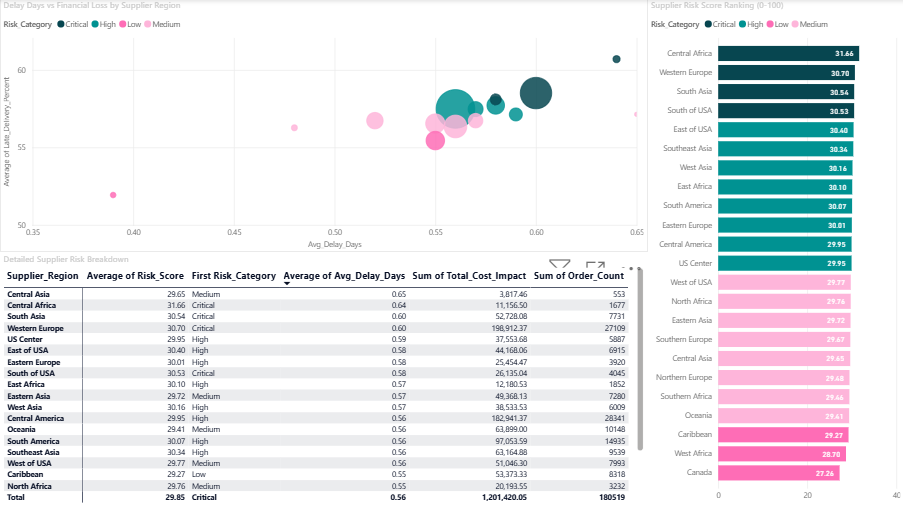

What the dashboard file says about the page in this screenshot:
{"tool":"powerbi","page":{"name":"Supplier Risk Analysis","canvas":[1280,720],"ordinal":1},"visuals":[{"type":"scatterChart","title":"Delay Days vs Financial Loss by Supplier Region","fields":{"X":["Supplier_Risk_Analysis.Avg_Delay_Days"],"Y":["Avg(Supplier_Risk_Analysis.Late_Delivery_Percent)"],"Size":["Sum(Supplier_Risk_Analysis.Order_Count)"],"Series":["Supplier_Risk_Analysis.Risk_Category"]},"box":[0,0,917.3,359.3],"z":0},{"type":"actionButton","box":[0,0,100,40],"z":1000},{"type":"barChart","title":"Supplier Risk Score Ranking (0-100)","fields":{"Category":["Supplier_Risk_Analysis.Supplier_Region"],"Series":["Supplier_Risk_Analysis.Risk_Category"],"Y":["Sum(Supplier_Risk_Analysis.Risk_Score)"]},"box":[917.3,0,363.5,720.7],"z":2000},{"type":"pivotTable","title":"Detailed Supplier Risk Breakdown","fields":{"Rows":["Supplier_Risk_Analysis.Supplier_Region"],"Values":["Avg(Supplier_Risk_Analysis.Risk_Score)","Min(Supplier_Risk_Analysis.Risk_Category)","Avg(Supplier_Risk_Analysis.Avg_Delay_Days)","Sum(Supplier_Risk_Analysis.Total_Cost_Impact)","Sum(Supplier_Risk_Analysis.Order_Count)"]},"box":[0,359.6,917,359.6],"z":3000}]}

Visuals, with their boxes in screenshot pixels (x1, y1, x2, y2), scaled from the page's 1280x720 canvas onto the 903x507 screenshot:
"Delay Days vs Financial Loss by Supplier Region" scatterChart: box(0, 0, 647, 253)
actionButton: box(0, 0, 71, 28)
"Supplier Risk Score Ranking (0-100)" barChart: box(647, 0, 902, 506)
"Detailed Supplier Risk Breakdown" pivotTable: box(0, 253, 647, 506)
